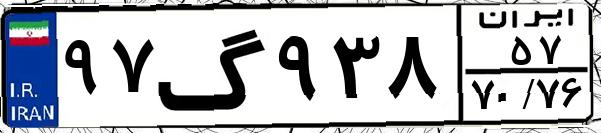0: (495, 70, 520, 125)
3: (330, 28, 385, 110)
5: (508, 27, 537, 80)
6: (560, 70, 590, 125)
7: (110, 28, 156, 98), (537, 27, 568, 80), (470, 70, 495, 125), (535, 70, 560, 125)
8: (385, 28, 445, 110)
9: (270, 28, 330, 110), (57, 26, 110, 100)
گ: (156, 12, 270, 120)
